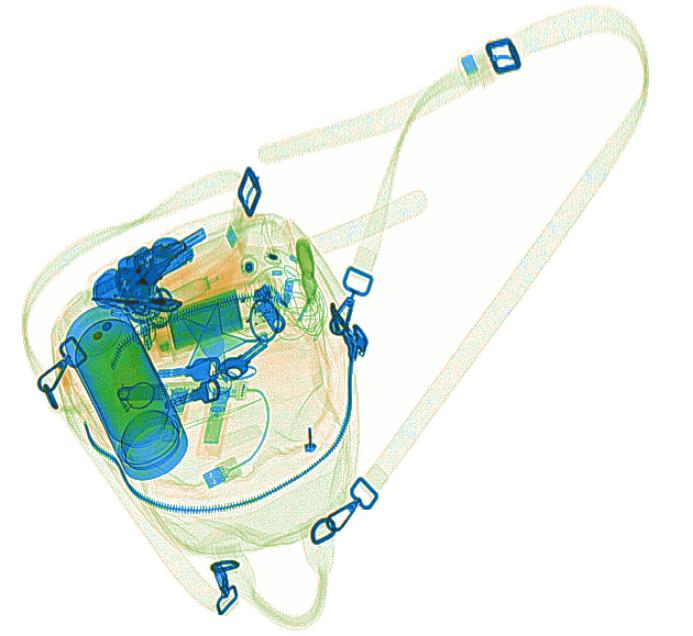USBFlashDisk: (202, 384, 234, 452), (161, 382, 190, 439)
